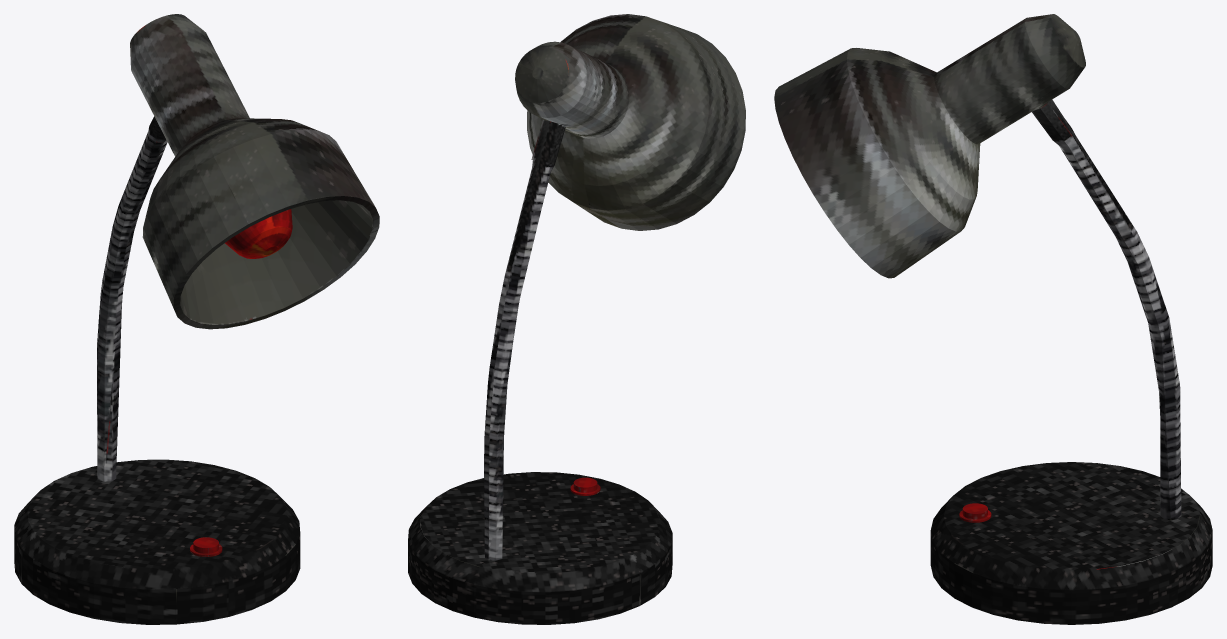
The model's file is HeatLamp.fbx.
3 views of the same model, side by side, from view 1: azimuth 30°, elevation 25°; view 2: azimuth 150°, elevation 25°; view 3: azimuth 270°, elevation 25° (orthographic). The views are drawn at different scales.
Parts seen in each view (by area): view 1: HeatLamp; view 2: HeatLamp; view 3: HeatLamp.
Boxes of the visible parts, x1,y1,x2,y2 form: HeatLamp: (14,14,379,624); HeatLamp: (408,14,745,624); HeatLamp: (774,14,1212,624).
Bounding box in the file's own units: 153 × 327 × 237.
1 material, 1 textured.
